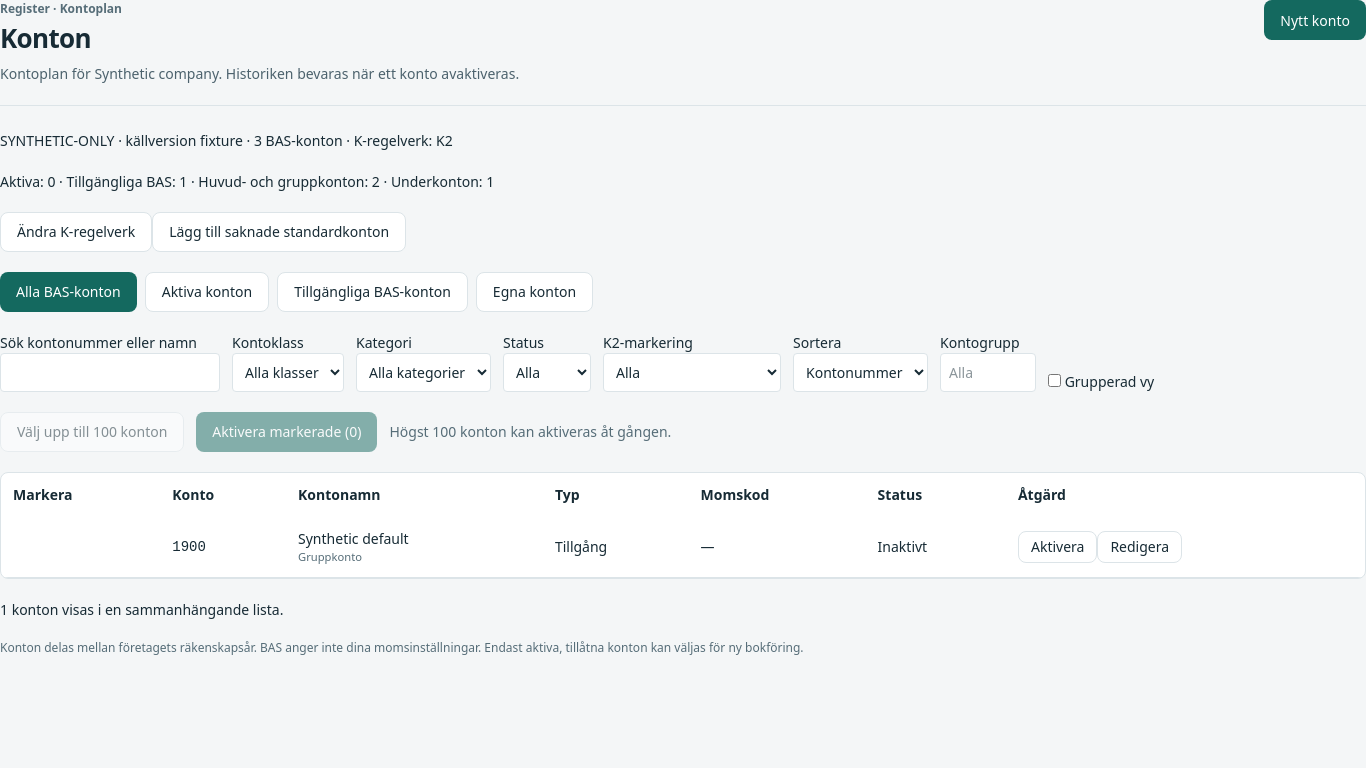
Test: explicitly reactivates a custom account without changing its metadata
This screenshot has width=1366, height=768.
Expected: the text "Synthetic default" is shown, [298, 529, 409, 548]
Click the button with aria-label "Aktivera konto 1900". click: (1058, 547)
box: [1018, 531, 1098, 563]
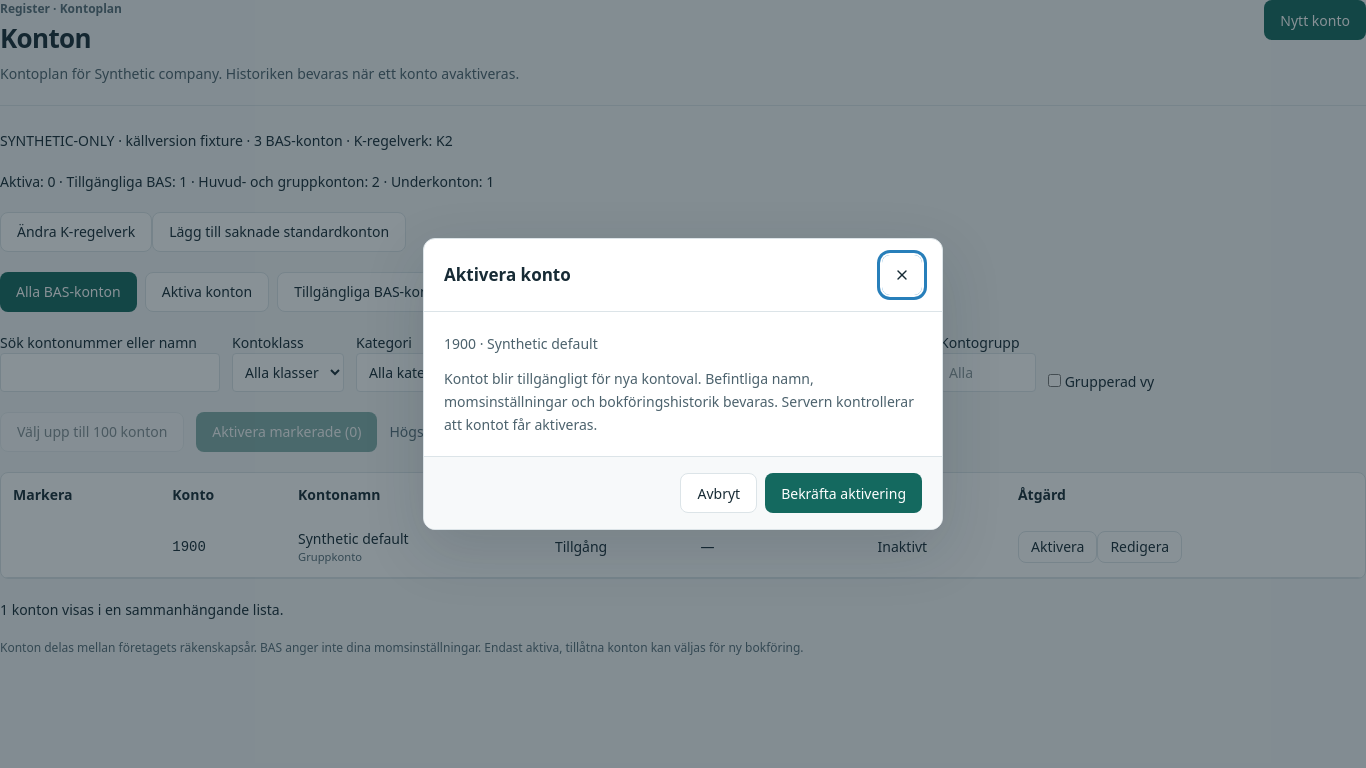
Expected: the dialog "Aktivera konto" is shown, [423, 238, 943, 530]
Click the button "Bekräfta aktivering". click: (844, 493)
box: [765, 473, 922, 513]
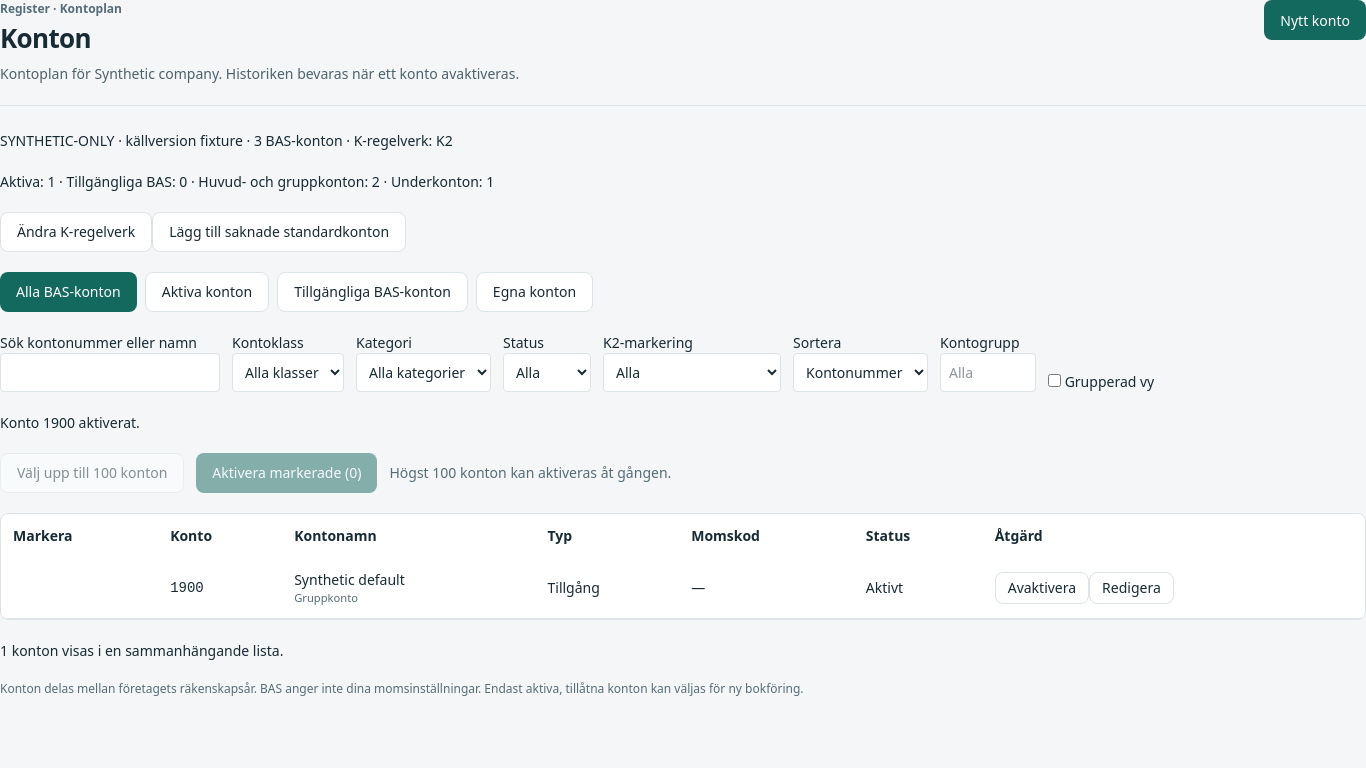
Expected: the text "Konto 1900 aktiverat." is shown, [0, 413, 140, 432]
